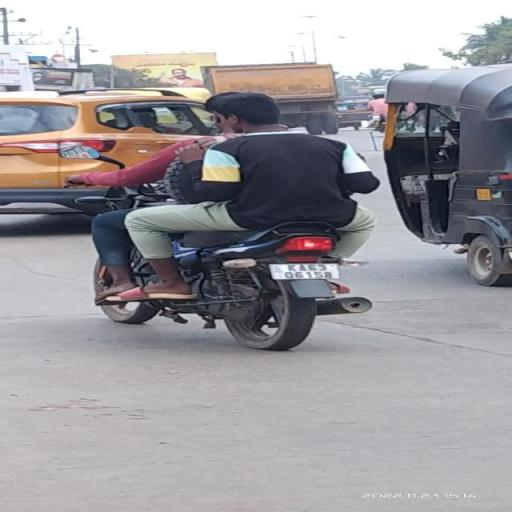bike: (54, 90, 380, 356)
numberplate: (270, 262, 344, 280)
withouthelmet: (227, 93, 276, 132)
